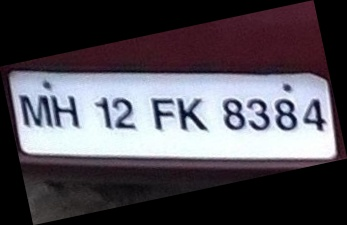character: (18, 93, 53, 128), (175, 95, 207, 133), (50, 93, 80, 128), (111, 96, 138, 130), (150, 97, 175, 131), (301, 97, 326, 131), (273, 96, 297, 131), (246, 97, 270, 131), (221, 97, 244, 131), (94, 94, 113, 130)
